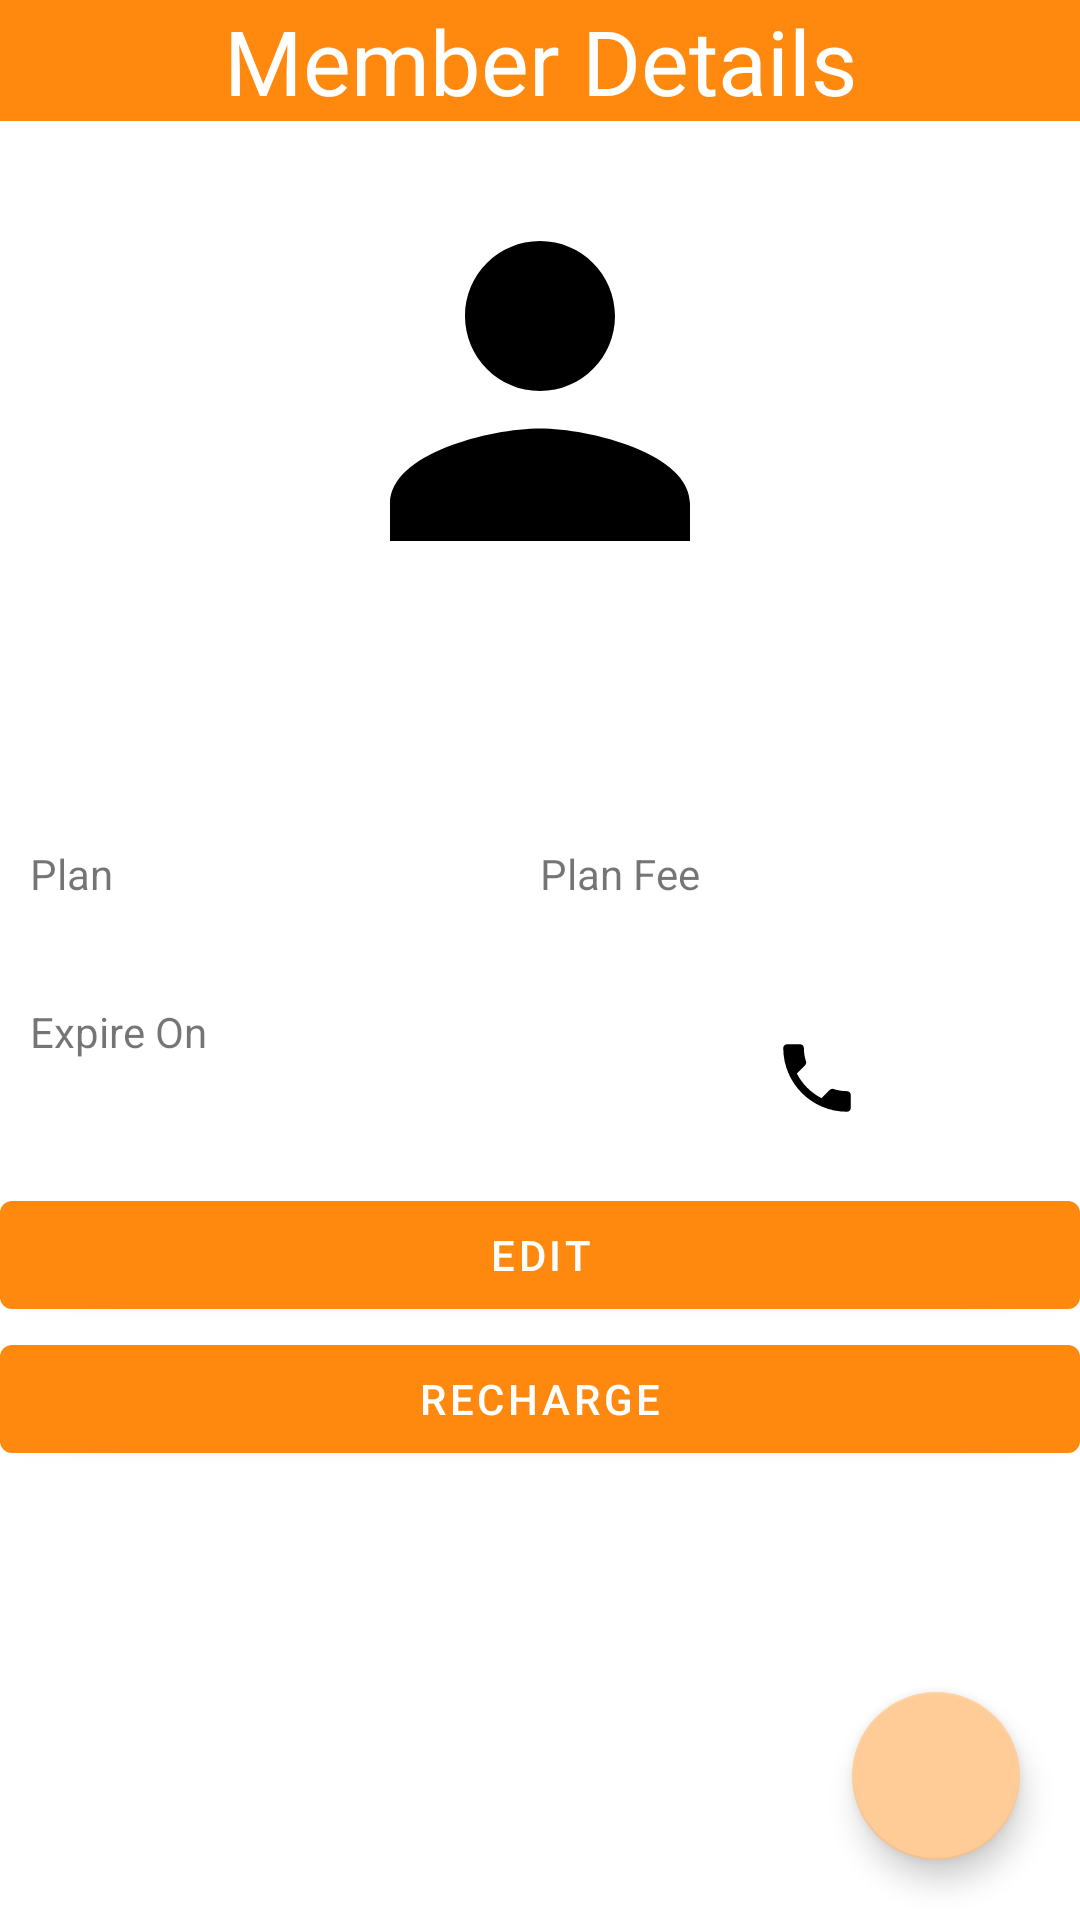

Locate icon controls on the screen. Image size 1080 x 1920, boxes as (x1, y1, x2, y2).
person: (390, 241, 690, 541)
phone: (783, 1044, 851, 1112)
